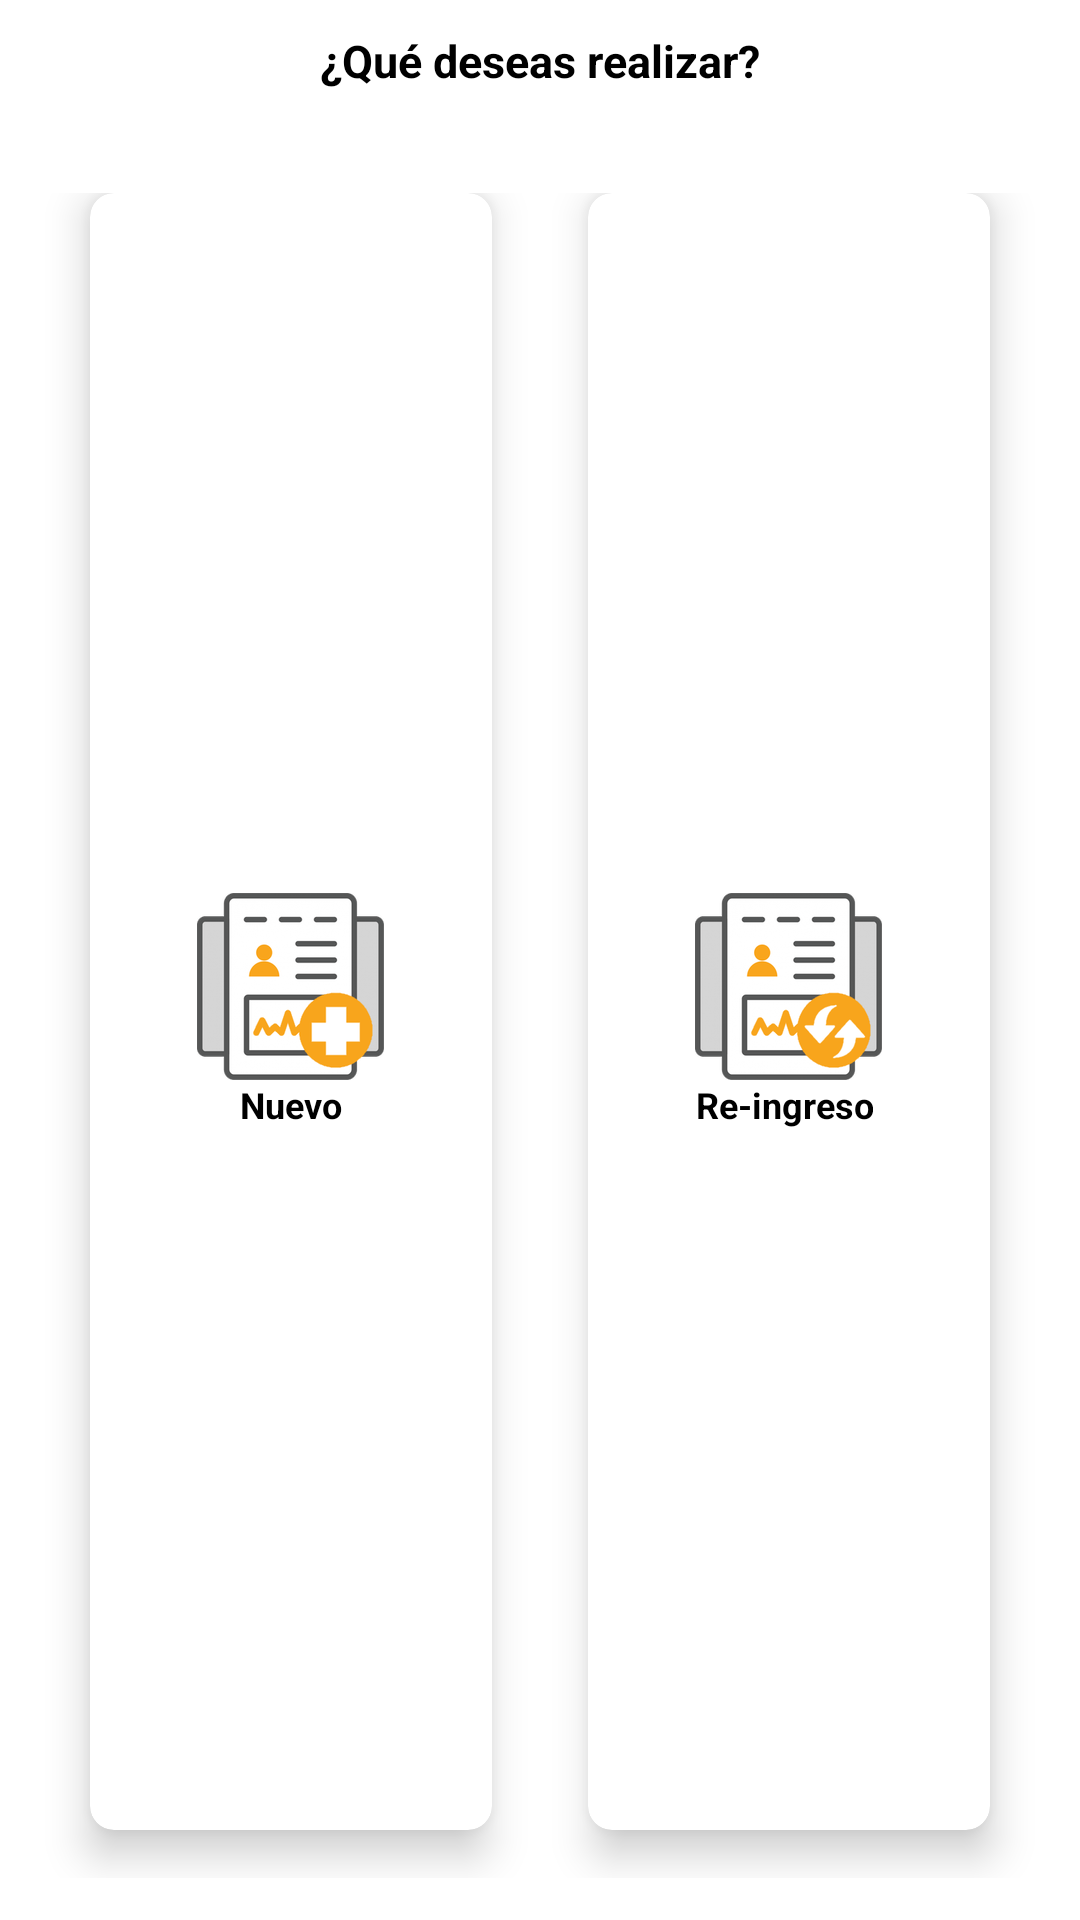

Icons on this 1080x1920 Android screen, each with the point to tap as (x=x, y=y):
register: (x=290, y=986)
